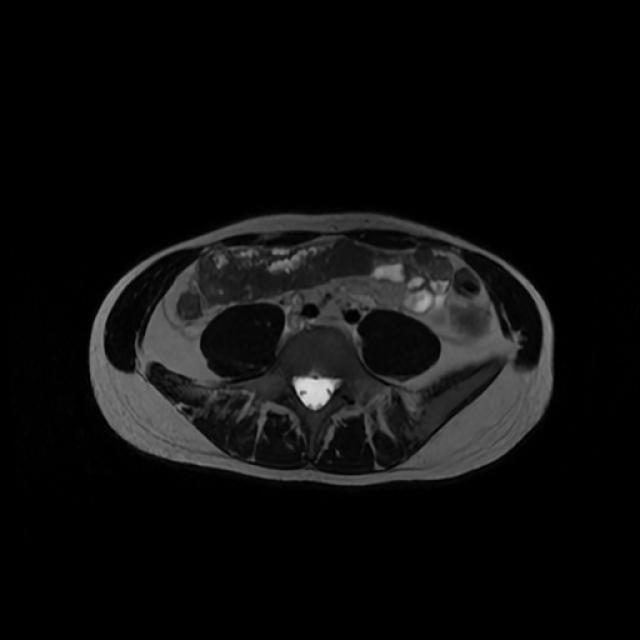sol: (447, 303, 492, 339)
